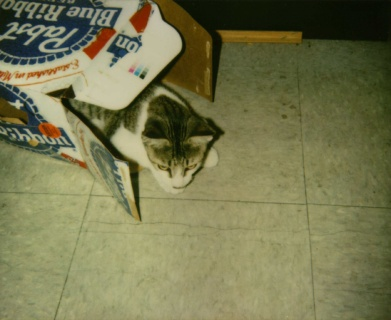Cat: (62, 79, 219, 195)
